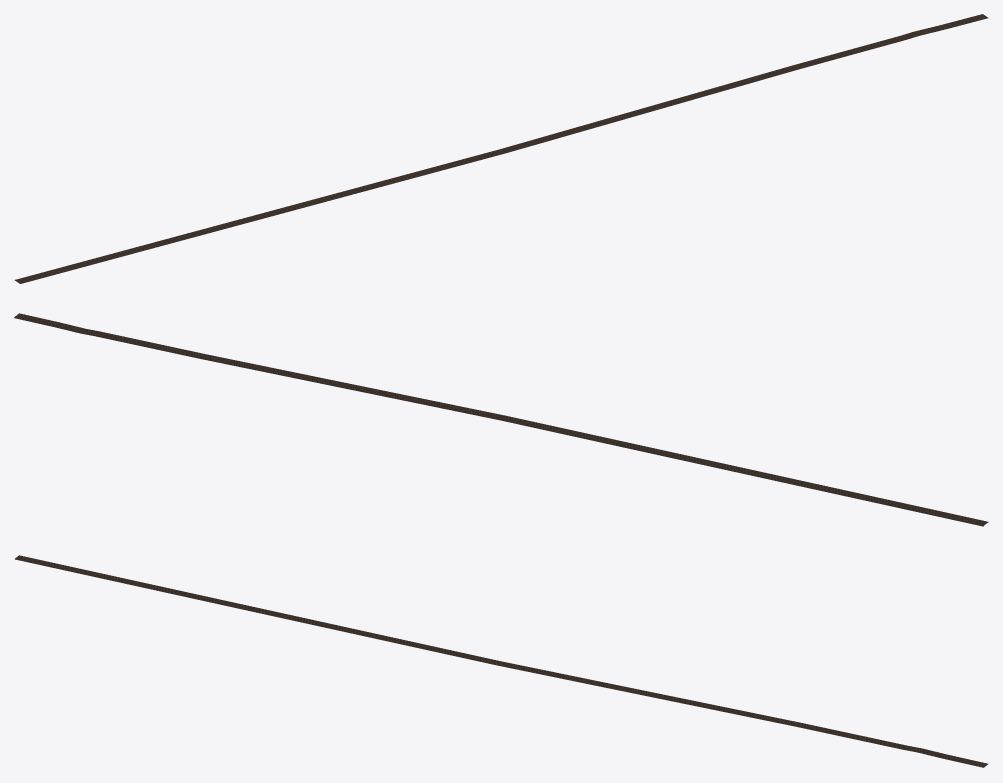
Rendered from kobe_0013.glb.
3 views of the same model, one above another, from view 1: azimuth 30°, elevation 25°; view 2: azimuth 150°, elevation 25°; view 3: azimuth 330°, elevation 25° (orthographic). The views are drawn at different scales.
Visible parts, largest first — view 1: ballast_top, oxidised_rail_profiles; view 2: ballast_top, oxidised_rail_profiles, ballast_left; view 3: ballast_top, oxidised_rail_profiles.
Part boxes in pixels (x1,y1,x2,y2): ballast_top: (14,14,988,283); oxidised_rail_profiles: (15,14,987,282); ballast_top: (14,313,988,525); oxidised_rail_profiles: (15,313,987,524); ballast_left: (14,317,983,526); ballast_top: (14,555,988,767); oxidised_rail_profiles: (15,555,986,766).
Bounding box in the file's own units: 754 × 0.819 × 47.92.
4 materials, 3 textured.
